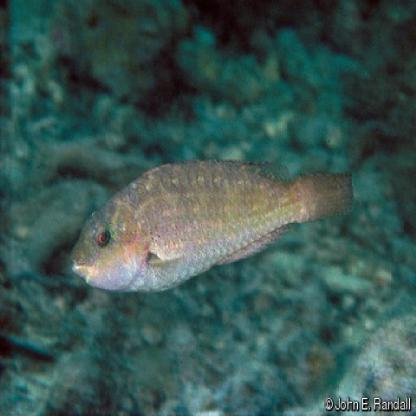Scaridae -Parrotfishes-: (59, 144, 361, 302)
